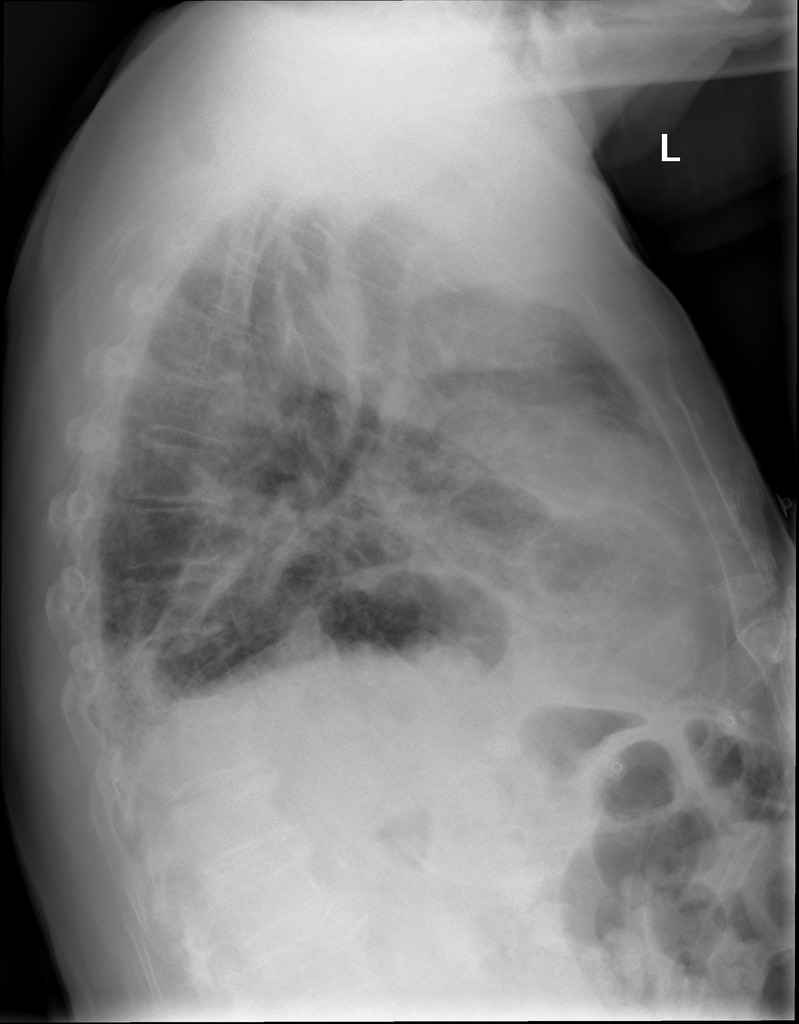cancer: (123, 266, 635, 835)
